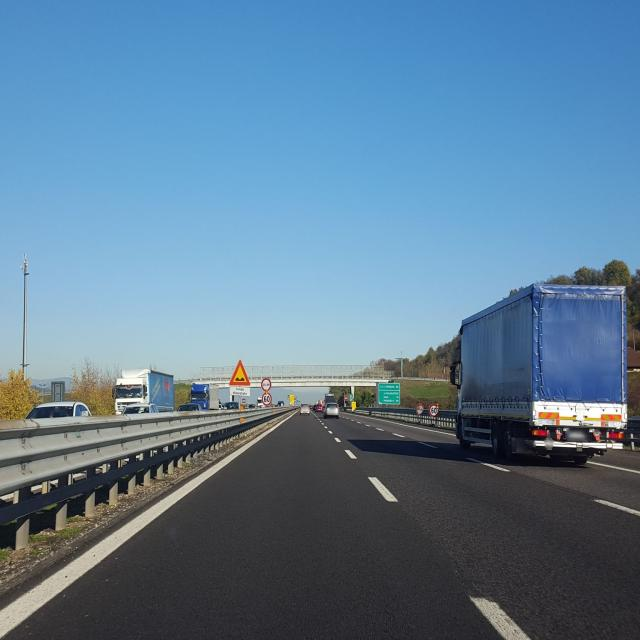car: (19, 402, 94, 426), (622, 416, 640, 451), (122, 404, 158, 417), (323, 402, 340, 418), (299, 402, 311, 416), (314, 402, 324, 413)
